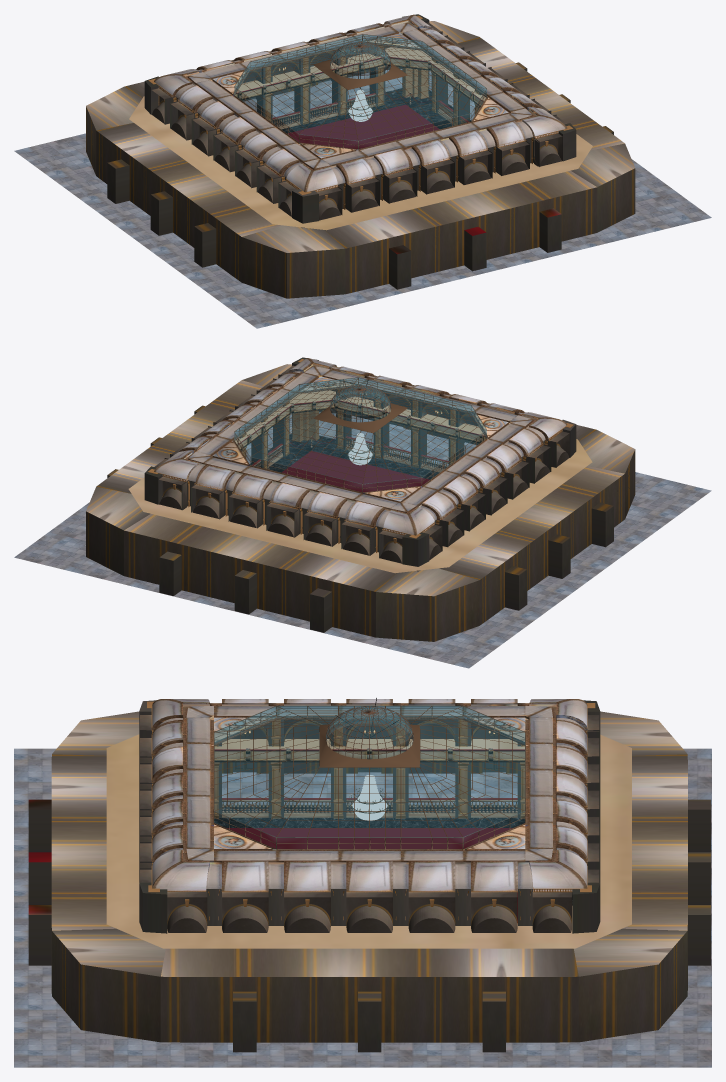
File: Museum.gltf
3 views of the same model, one above another, from view 1: azimuth 30°, elevation 25°; view 2: azimuth 150°, elevation 25°; view 3: azimuth 270°, elevation 25° (orthographic). The views are drawn at different scales.
Visible parts, largest first — view 1: Plane.027, Plane.001, Plane.004, Cube.001, Plane.019, Plane, Plane.002, Plane.003, Plane.121, Plane.030, Plane.120, Plane.016 (+19 smaller); view 2: Plane.027, Plane.001, Plane.004, Cube.001, Plane.019, Plane, Plane.002, Plane.003, Plane.121, Plane.030, Plane.120, Plane.029 (+15 smaller); view 3: Plane.027, Plane.001, Plane.004, Cube.001, Plane.019, Plane, Plane.002, Plane.003, Plane.121, Plane.030, Plane.120, Plane.016 (+21 smaller).
Part boxes in pixels (x1,y1,x2,y2): Plane.027: (86, 21, 635, 298); Plane.001: (14, 69, 711, 328); Plane.004: (235, 35, 485, 140); Cube.001: (129, 47, 592, 230); Plane.019: (154, 14, 567, 192); Plane: (184, 21, 537, 169); Plane.002: (144, 14, 576, 227); Plane.003: (234, 34, 486, 140); Plane.121: (271, 104, 465, 182); Plane.030: (234, 34, 486, 148); Plane.120: (233, 88, 480, 152); Plane.016: (175, 24, 535, 184); Plane.027: (86, 364, 635, 641); Plane.001: (14, 412, 711, 668); Plane.004: (235, 378, 485, 483); Cube.001: (128, 390, 592, 573); Plane.019: (154, 358, 567, 535); Plane: (184, 364, 537, 513); Plane.002: (144, 357, 576, 571); Plane.003: (234, 377, 486, 484); Plane.121: (282, 451, 452, 519); Plane.030: (234, 378, 486, 491); Plane.120: (249, 433, 485, 487); Plane.029: (234, 378, 486, 492); Plane.027: (28, 711, 710, 1052); Plane.001: (14, 748, 711, 1067); Plane.004: (214, 706, 524, 836); Cube.001: (106, 734, 631, 948); Plane.019: (152, 699, 587, 891); Plane: (183, 704, 556, 864); Plane.002: (139, 700, 600, 933); Plane.003: (214, 706, 525, 837); Plane.121: (227, 828, 517, 922); Plane.030: (214, 705, 524, 848); Plane.120: (214, 805, 572, 905); Plane.016: (159, 703, 580, 888).
Bounding box in the file's own units: 41.4 × 12.04 × 38.3.
Materials: 14 (8 with a texture image).
